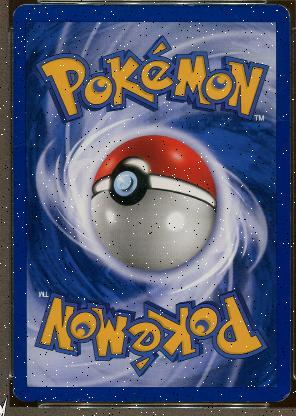Card: (13, 2, 293, 404)
Corner Wear: (4, 0, 35, 21), (271, 0, 294, 28), (271, 384, 292, 406)
Edge Wear: (5, 386, 28, 402)
Scratch: (33, 0, 275, 8), (61, 393, 104, 401), (271, 115, 288, 123), (12, 141, 30, 148), (18, 131, 27, 135), (22, 110, 27, 115), (236, 393, 241, 396), (176, 374, 179, 378), (209, 381, 213, 384), (133, 391, 135, 395), (245, 400, 249, 402)
